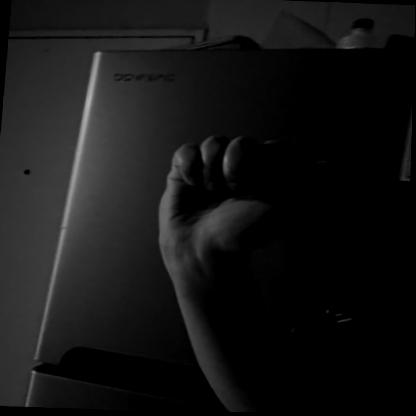E: (148, 121, 347, 257)
